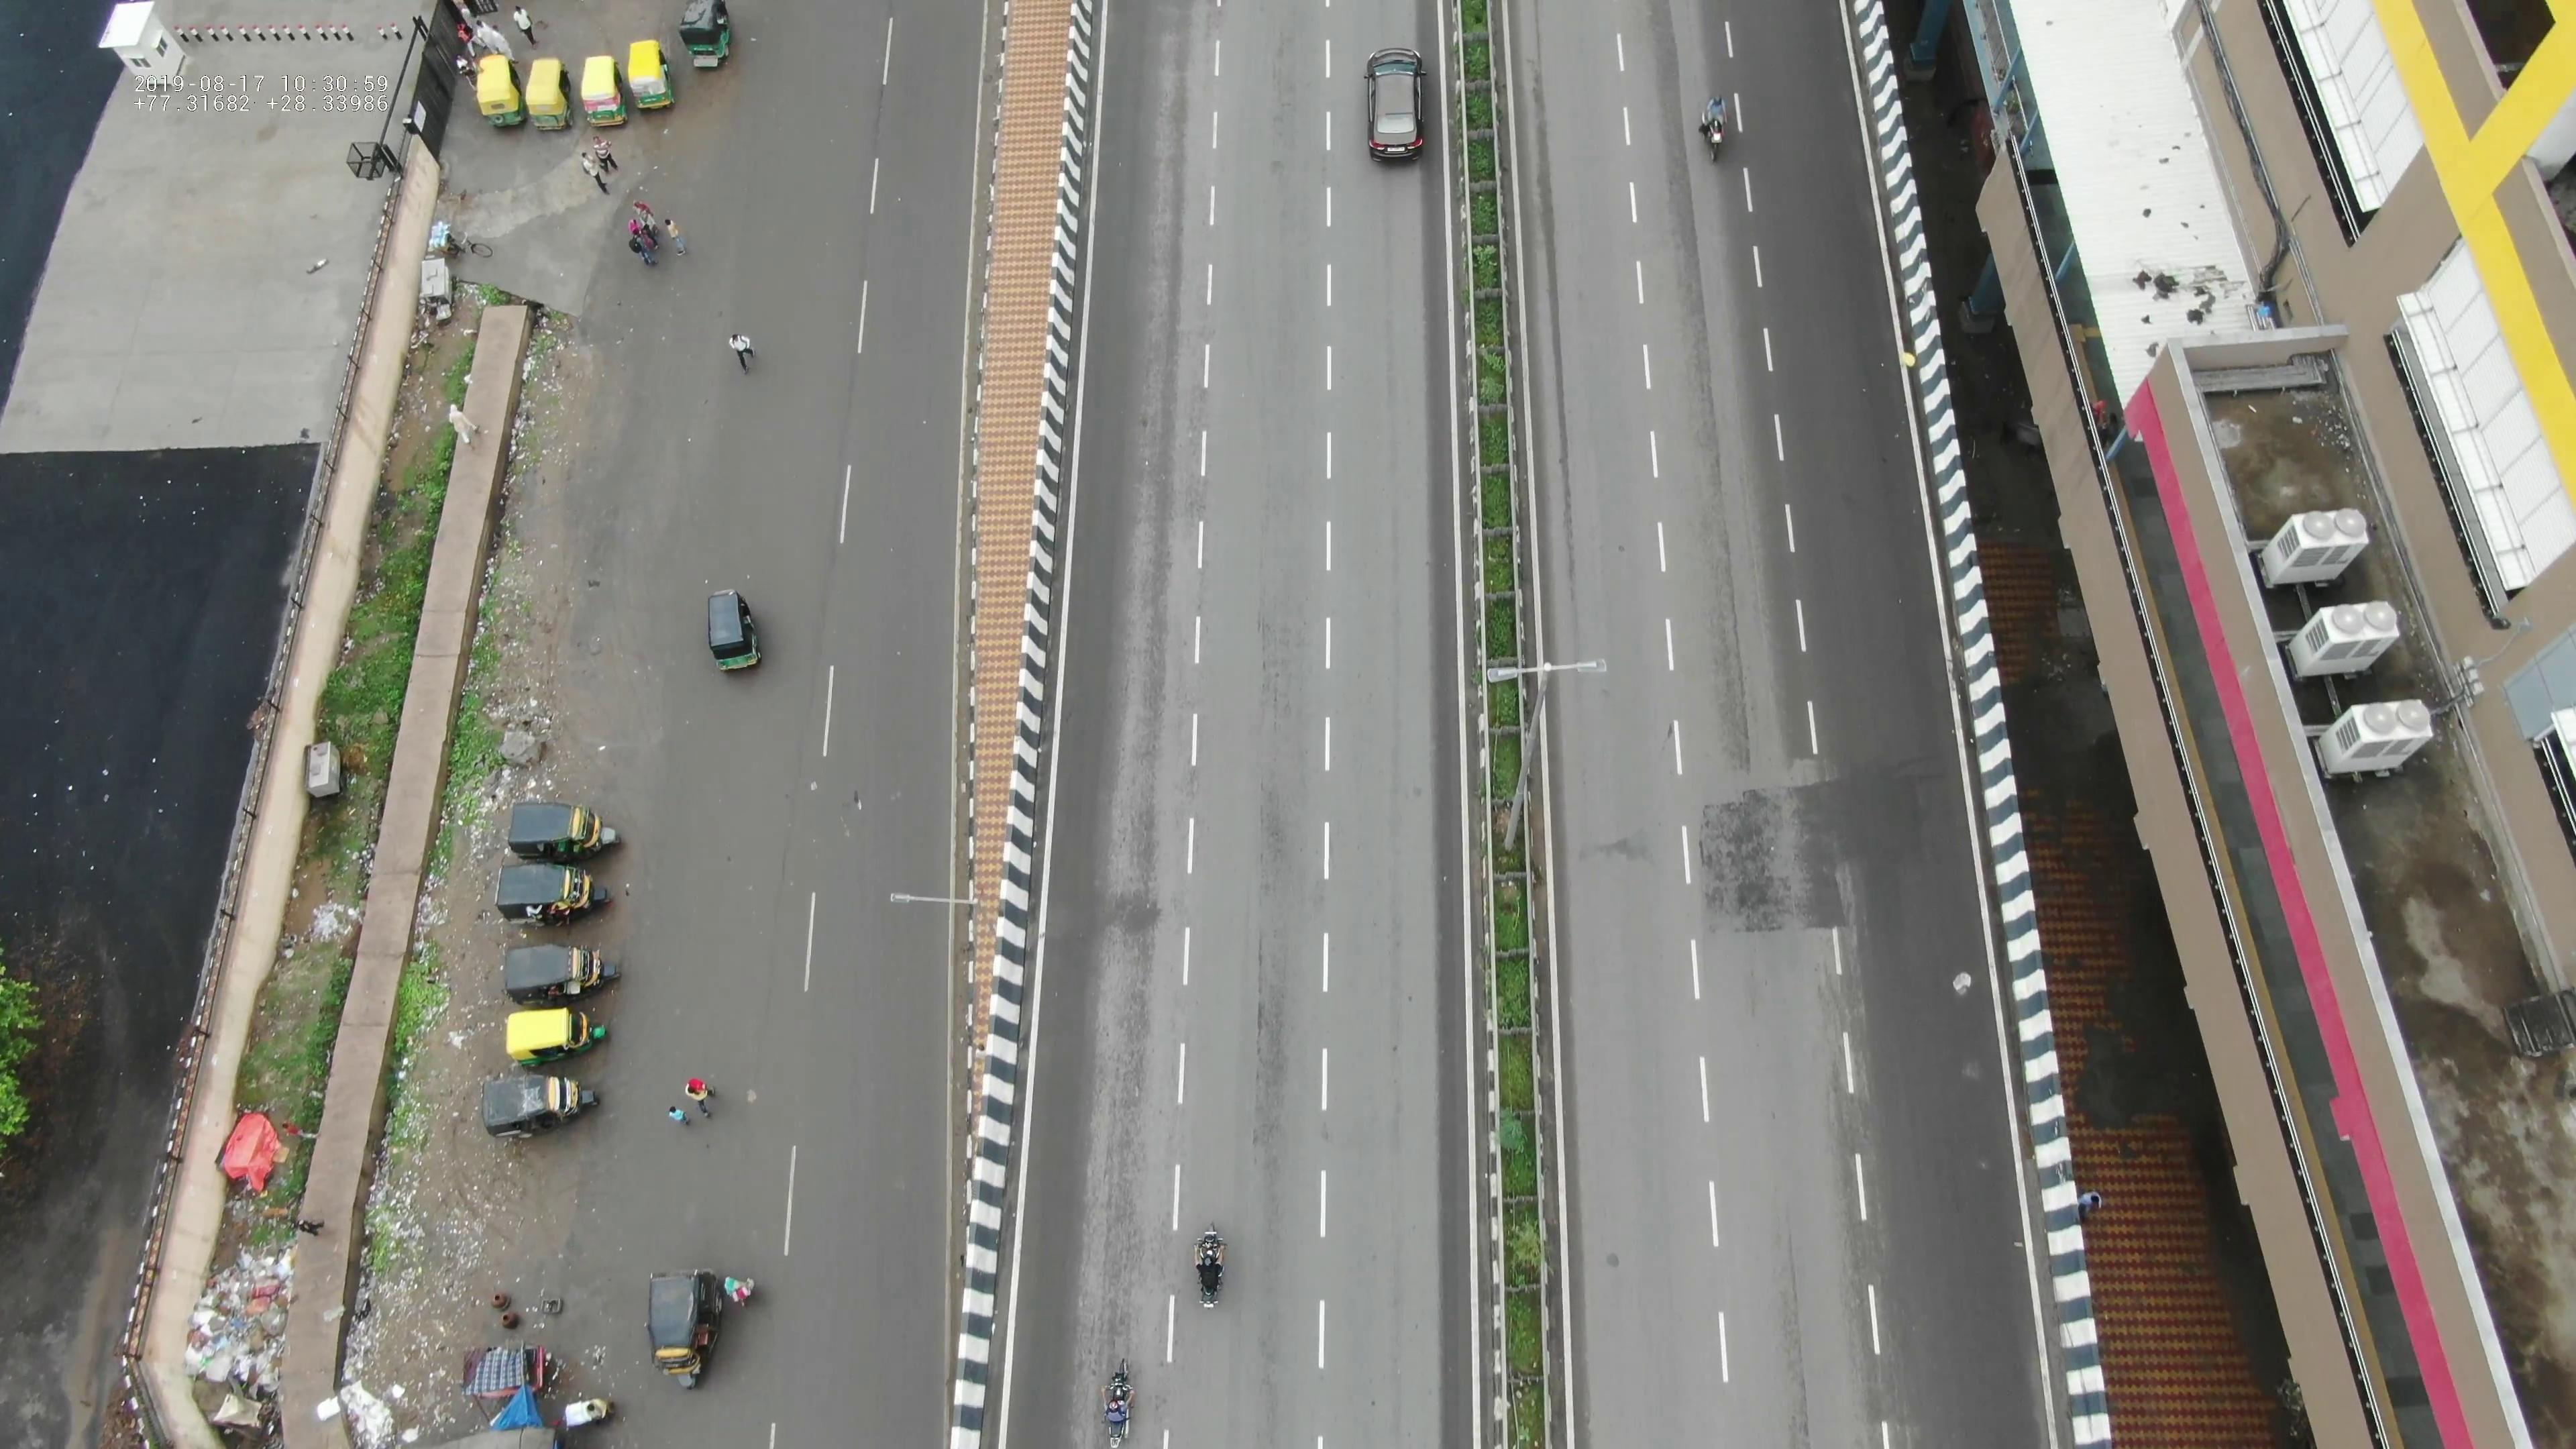Ravelling: (1707, 740, 1787, 936)
Road_side_garbage: (154, 1201, 448, 1384)
